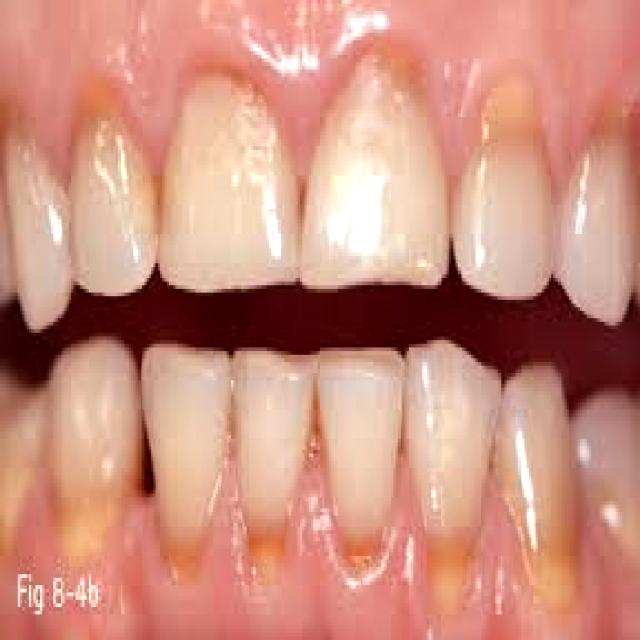tooth-discoloration: (404, 340, 498, 611), (496, 362, 576, 603)
